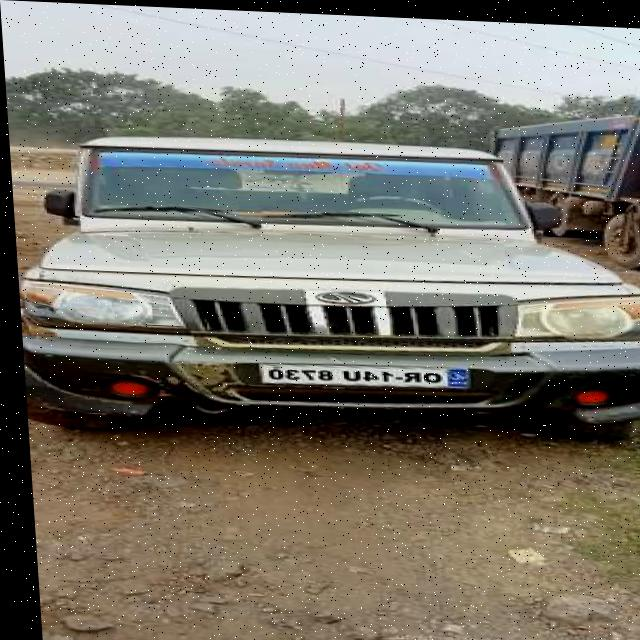plate: (255, 357, 467, 390)
